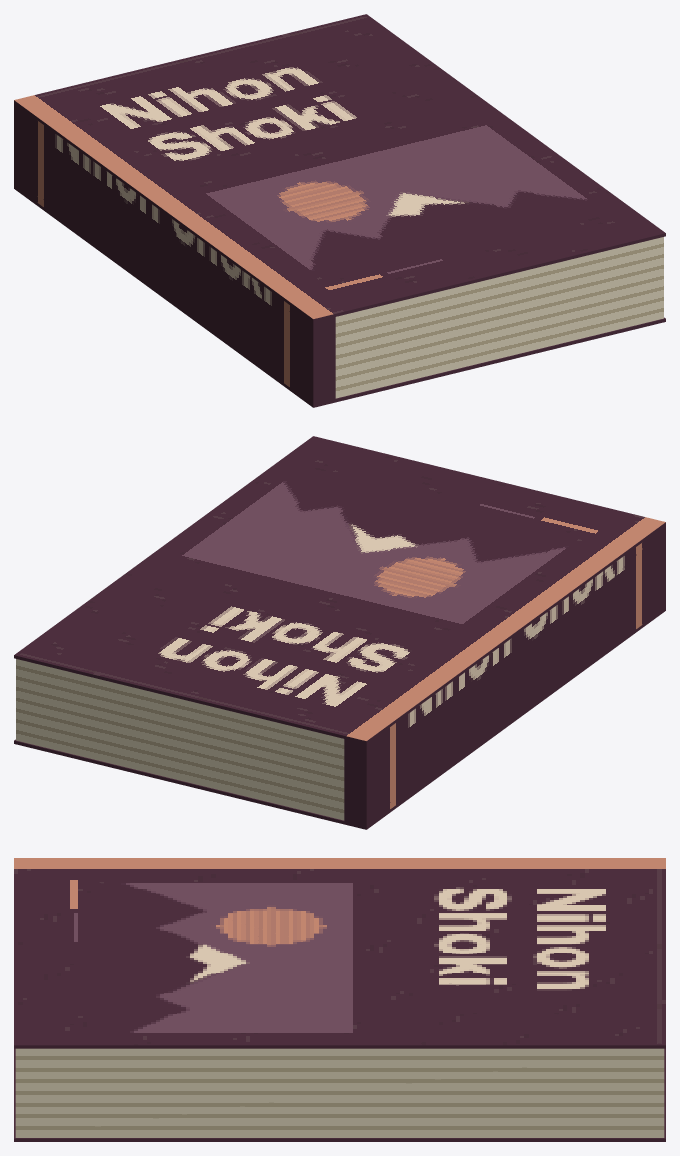
The model's file is holybook_nihon.glb.
3 renders of one model, top to bottom at view 1: azimuth 30°, elevation 25°; view 2: azimuth 150°, elevation 25°; view 3: azimuth 270°, elevation 25°, orthographic. The views are drawn at different scales.
Parts seen in each view (by area): view 1: block_front cover, block_page block, block_spine, block_back cover; view 2: block_front cover, block_page block, block_spine, block_back cover; view 3: block_front cover, block_page block, block_back cover.
Boxes of the visible parts, x1,y1,x2,y2 form: block_front cover: (14,14,665,322); block_page block: (335,237,663,398); block_spine: (14,103,335,404); block_back cover: (14,186,665,407); block_front cover: (14,436,665,744); block_page block: (16,659,344,820); block_spine: (344,525,665,826); block_back cover: (14,608,665,829); block_front cover: (14,858,665,1048); block_page block: (15,1048,664,1137); block_back cover: (14,1048,665,1141).
Bounding box in the file's own units: 0.1414 × 0.034 × 0.208.
Materials: 1 (1 with a texture image).
